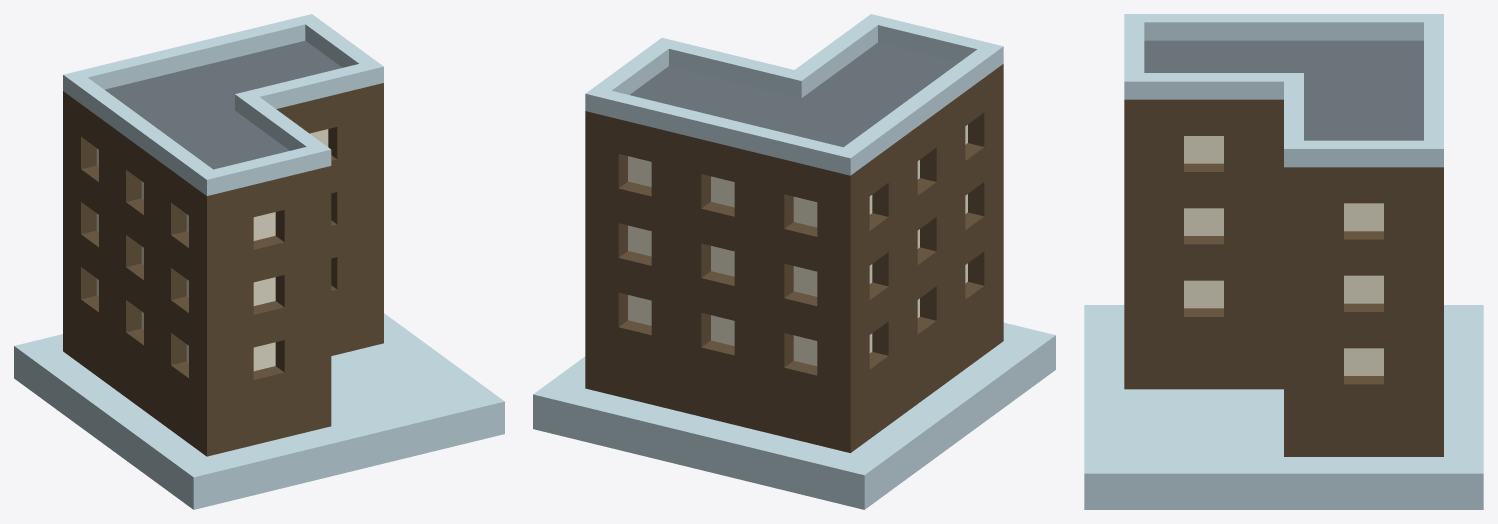
Rendered from Building_3_Base (Brown).obj.
3 views of the same model, side by side, from view 1: azimuth 30°, elevation 25°; view 2: azimuth 150°, elevation 25°; view 3: azimuth 270°, elevation 25° (orthographic). The views are drawn at different scales.
Parts seen in each view (by area): view 1: Building_3_Base_(Brown); view 2: Building_3_Base_(Brown); view 3: Building_3_Base_(Brown).
Boxes of the visible parts, <box> form: Building_3_Base_(Brown): <box>14,14,504,509</box>; Building_3_Base_(Brown): <box>533,14,1055,509</box>; Building_3_Base_(Brown): <box>1084,14,1483,509</box>.
Bounding box in the file's own units: 2 × 1.9 × 2.
